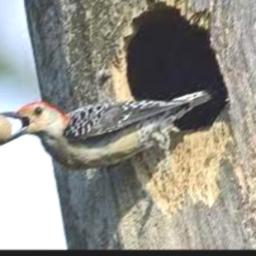Woodpecker: (0, 89, 212, 170)
